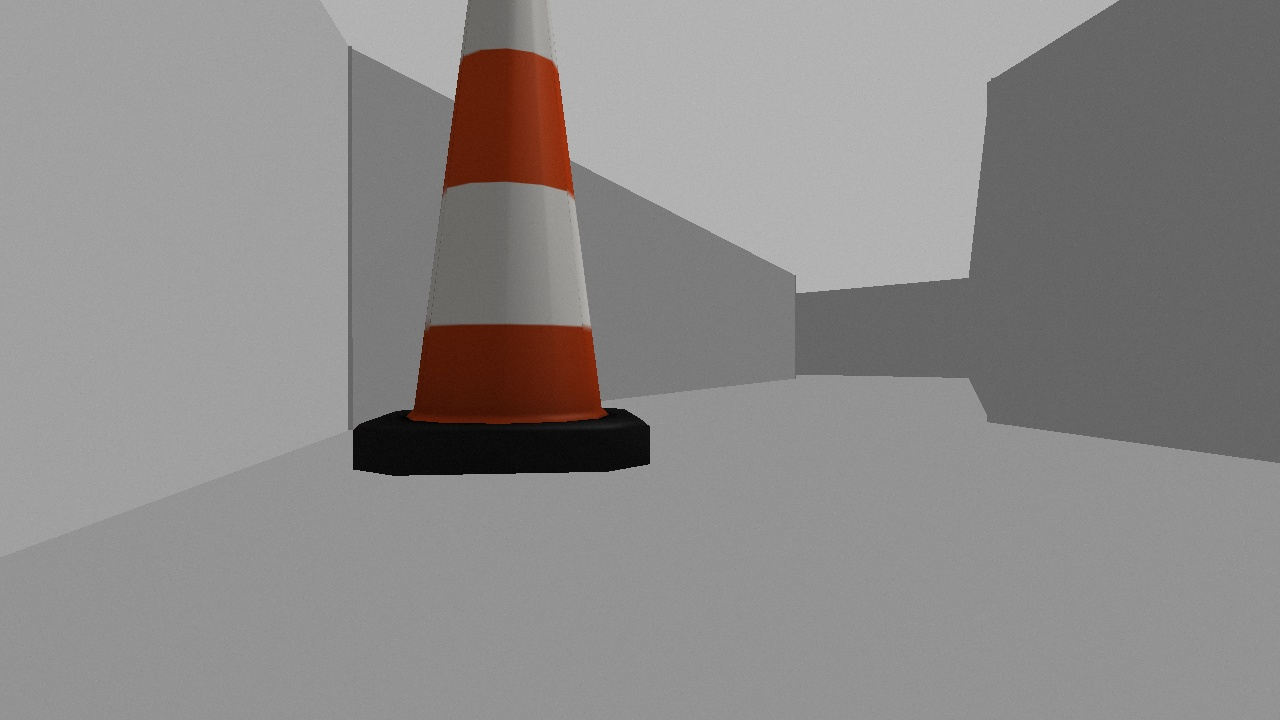barricade: (329, 1, 672, 483)
